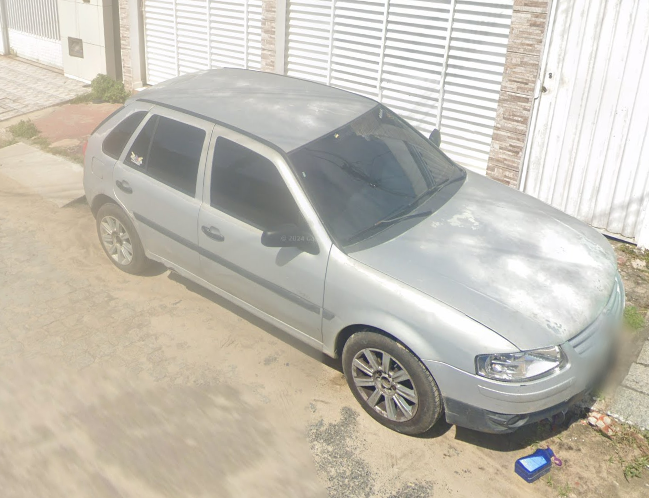car: (80, 58, 633, 445)
